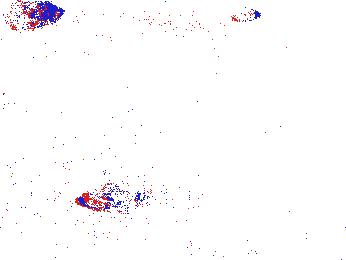X-ray fish: (1, 1, 64, 32)
red belly glassfish: (74, 189, 143, 212), (199, 7, 261, 24)
